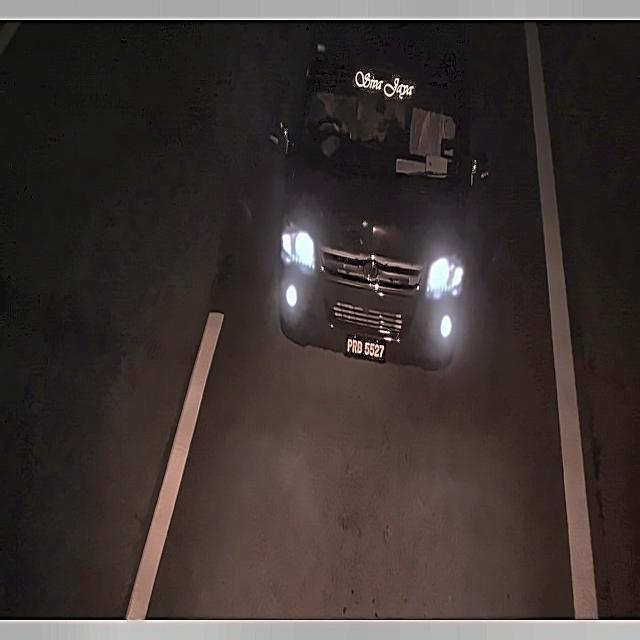car: (342, 331, 392, 369)
